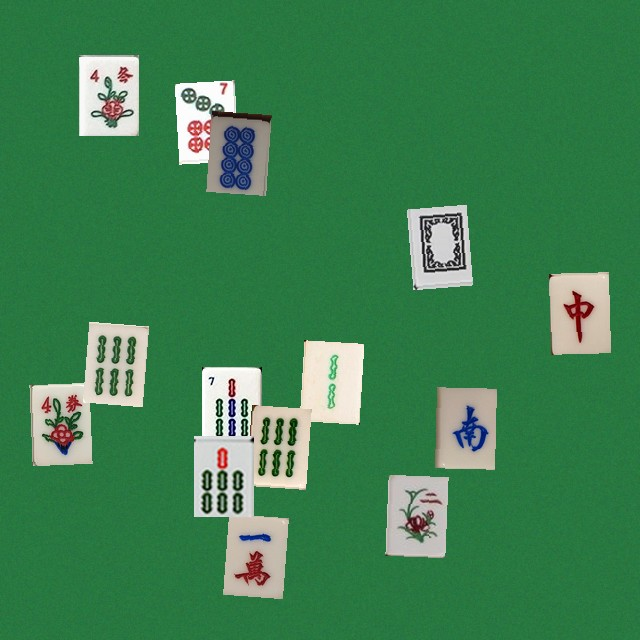tile: (201, 366, 261, 447), (174, 80, 234, 161), (385, 474, 445, 555), (29, 382, 89, 463), (406, 204, 466, 285), (299, 340, 359, 421), (78, 54, 138, 135), (206, 111, 266, 192), (548, 272, 608, 353), (223, 513, 283, 594), (435, 387, 495, 468), (82, 321, 142, 402), (246, 404, 306, 485), (193, 435, 253, 516)
